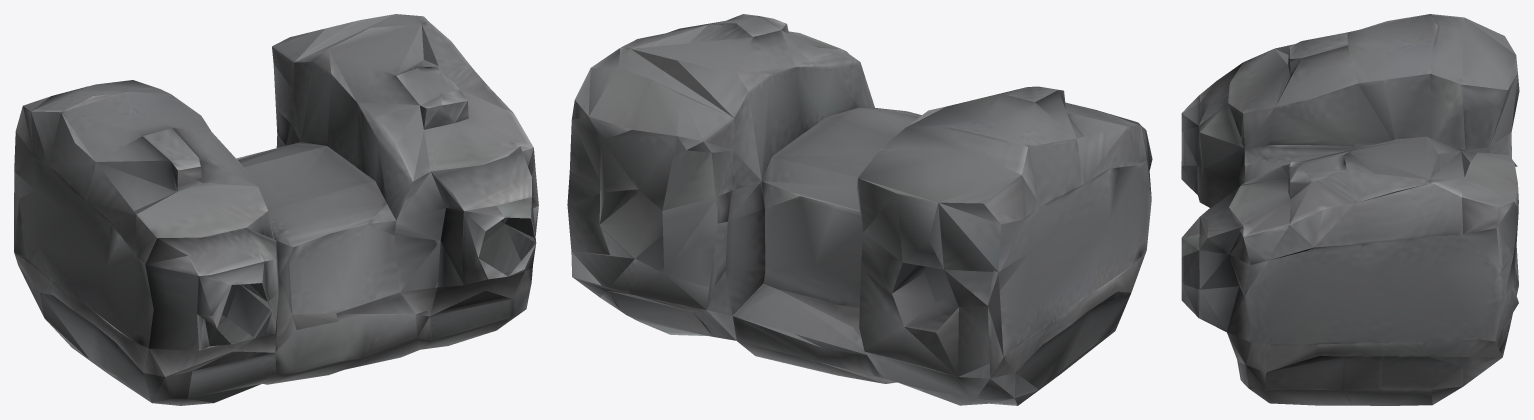
Rendered from shared_flak_tower_large_option__elevation_cradle_lod2.glb.
3 views of the same model, side by side, from view 1: azimuth 30°, elevation 25°; view 2: azimuth 150°, elevation 25°; view 3: azimuth 270°, elevation 25° (orthographic). The views are drawn at different scales.
Parts seen in each view (by area): view 1: mesh_node; view 2: mesh_node; view 3: mesh_node.
Part boxes in pixels (x1=…): mesh_node: x1=14, y1=14, x2=538, y2=405; mesh_node: x1=567, y1=14, x2=1152, y2=405; mesh_node: x1=1181, y1=14, x2=1519, y2=405.
Size of the model in its own units: 3.41 by 2.06 by 2.67.
Materials: 1 (1 with a texture image).
